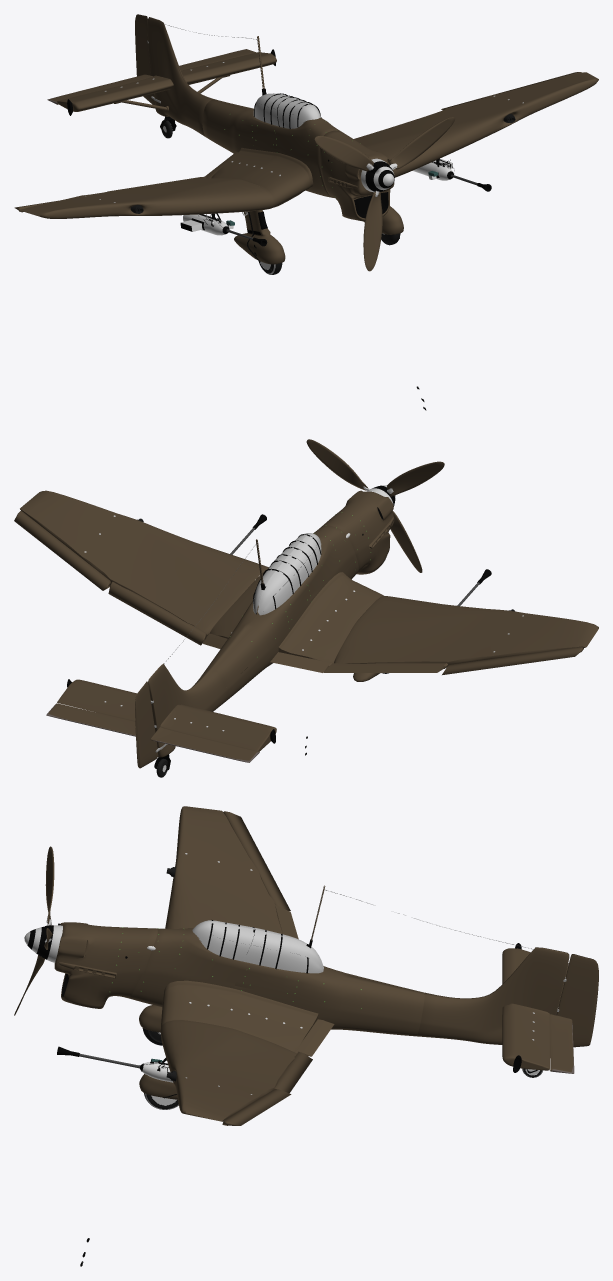
The picture shows the model from 3 angles, top to bottom: view 1: azimuth 30°, elevation 25°; view 2: azimuth 150°, elevation 25°; view 3: azimuth 270°, elevation 25°; orthographic projection. The views are drawn at different scales.
Visible parts, largest first — view 1: misc, prop; view 2: misc, prop; view 3: misc, prop.
Boxes of the visible parts, x1,y1,x2,y2 form: misc: (14, 14, 598, 410); prop: (314, 117, 455, 271); misc: (14, 490, 598, 777); prop: (306, 439, 444, 572); misc: (54, 806, 598, 1266); prop: (14, 846, 62, 1015).
Size of the model in its own units: 14 by 7.4 by 11.13.
